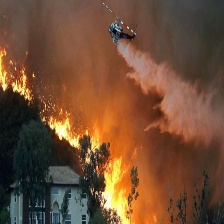fire: (80, 137, 140, 222), (1, 53, 44, 114), (37, 111, 86, 149)
smoke: (30, 2, 224, 149)
